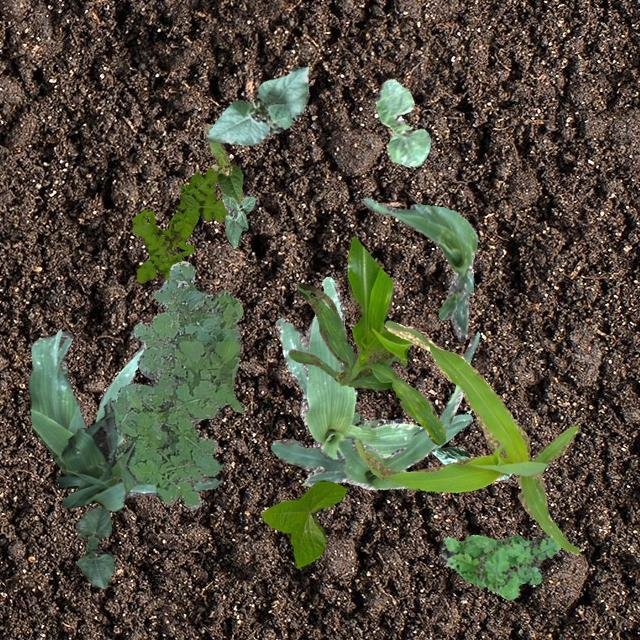crop: (354, 320, 580, 554), (274, 276, 472, 486), (27, 328, 222, 496), (270, 331, 478, 488), (288, 236, 444, 444), (362, 197, 476, 341), (56, 398, 136, 510), (205, 66, 308, 144), (260, 480, 346, 568), (374, 78, 430, 166), (74, 504, 114, 588), (202, 122, 242, 202), (430, 444, 510, 480), (222, 192, 254, 248)
weed: (109, 260, 242, 510), (130, 166, 227, 282), (438, 532, 560, 598)
